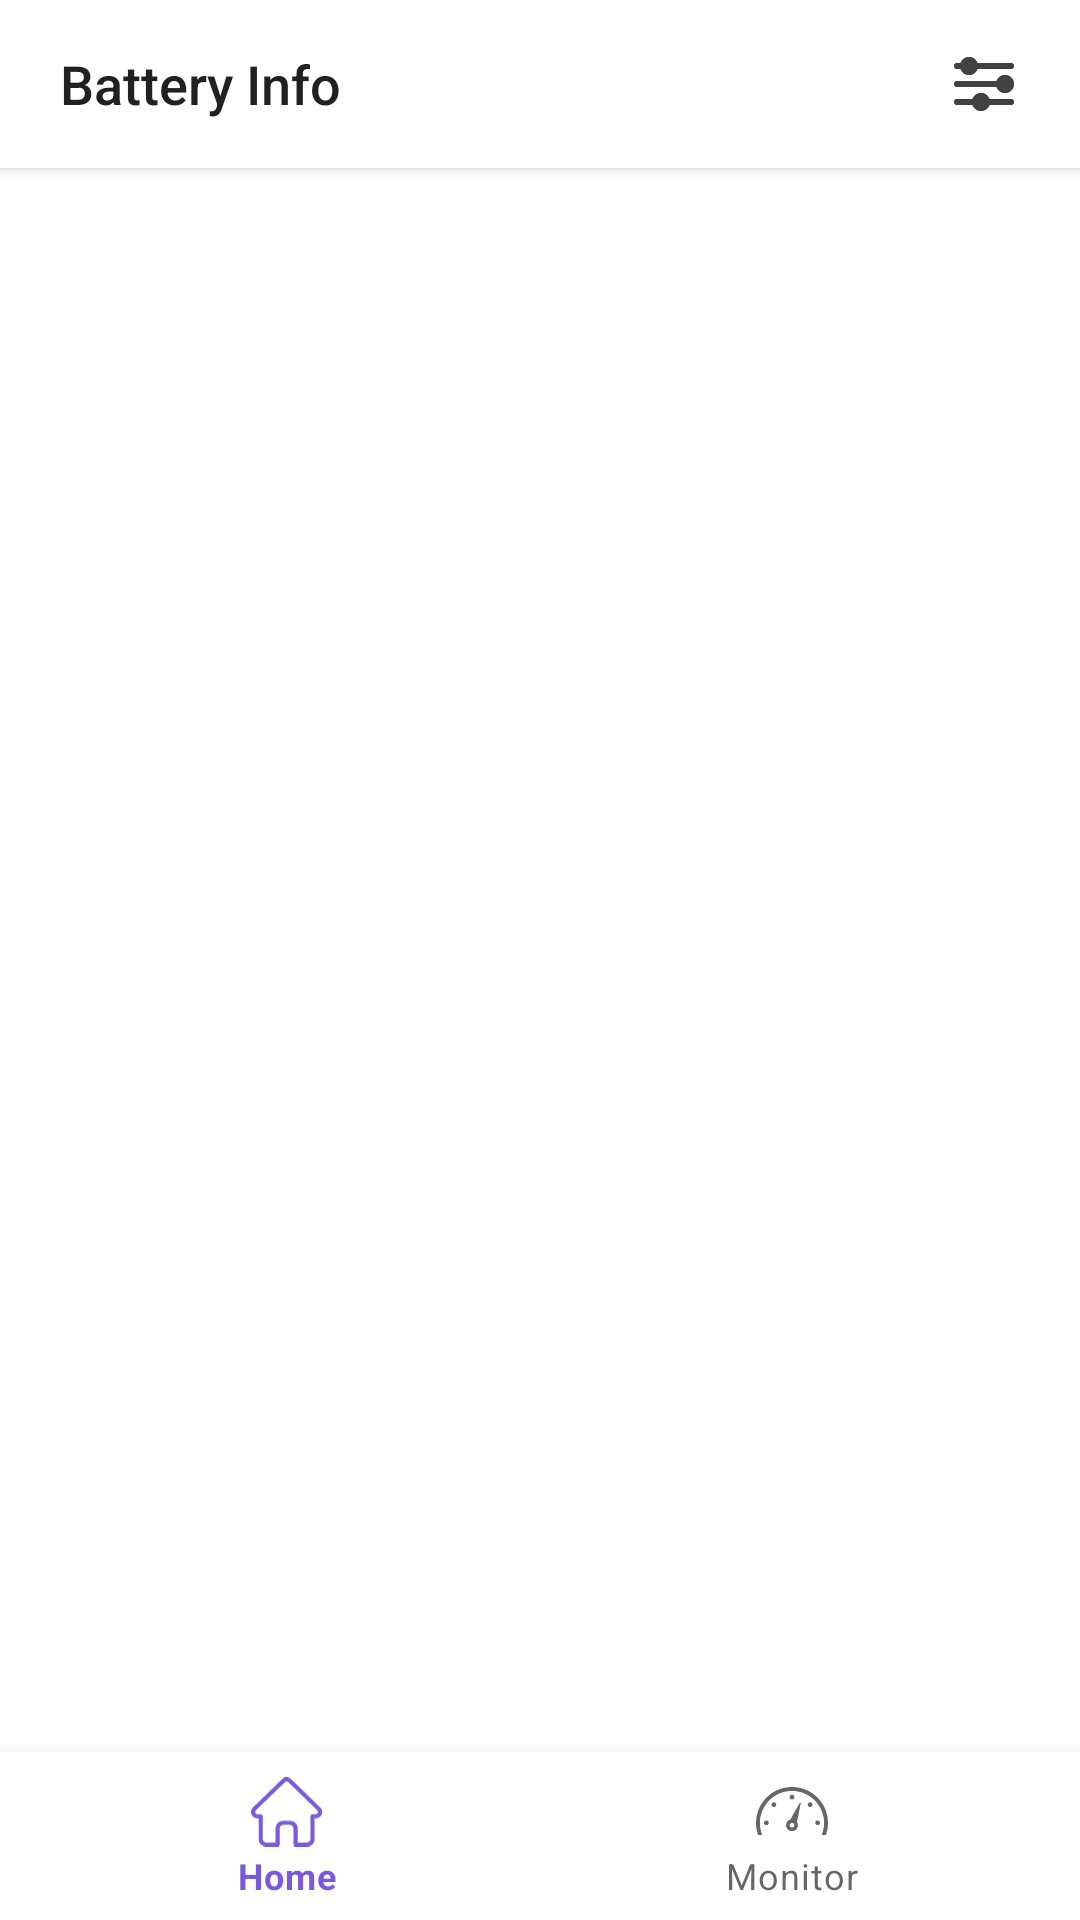

Icons on this 1080px x 1920px Android screen, each with its box as (x1, y1, x2, y2):
setting: (954, 57, 1014, 111)
